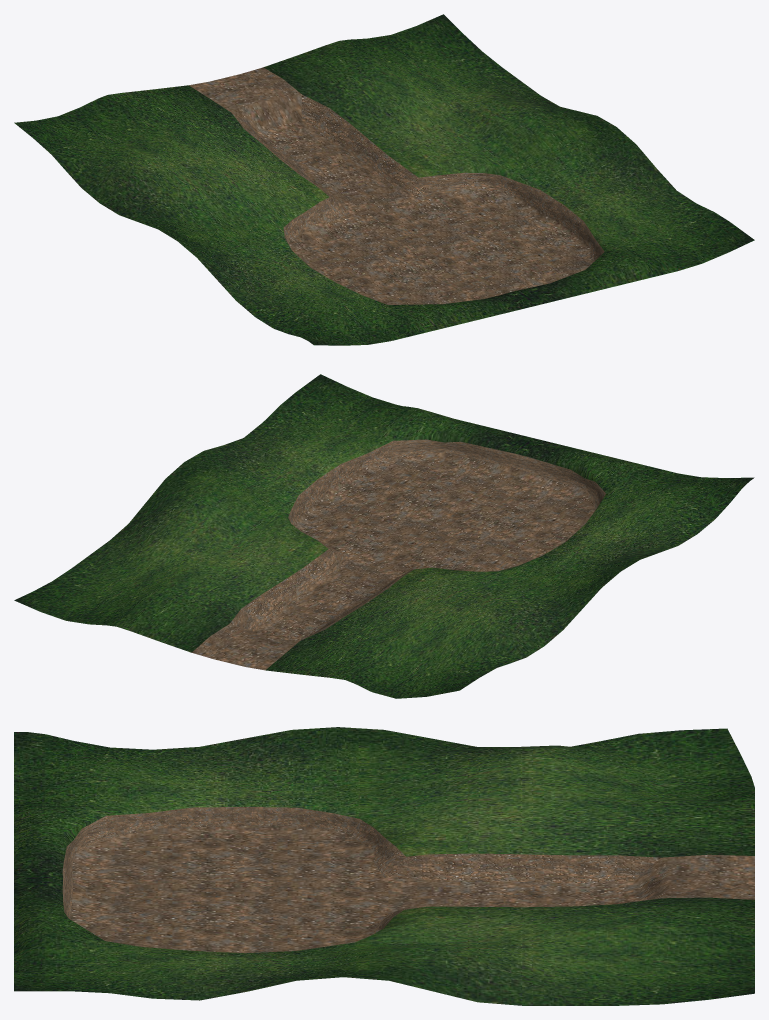
File: OpeningSceneLandscape.FBX
3 views of the same model, one above another, from view 1: azimuth 30°, elevation 25°; view 2: azimuth 150°, elevation 25°; view 3: azimuth 270°, elevation 25° (orthographic). The views are drawn at different scales.
Visible parts, largest first — view 1: Plane001; view 2: Plane001; view 3: Plane001.
Part boxes in pixels (<box>): Plane001: <box>14,14,754,345</box>; Plane001: <box>14,374,754,698</box>; Plane001: <box>14,727,754,1005</box>.
Size of the model in its own units: 996 by 87.86 by 1218.
1 material, 1 textured.
